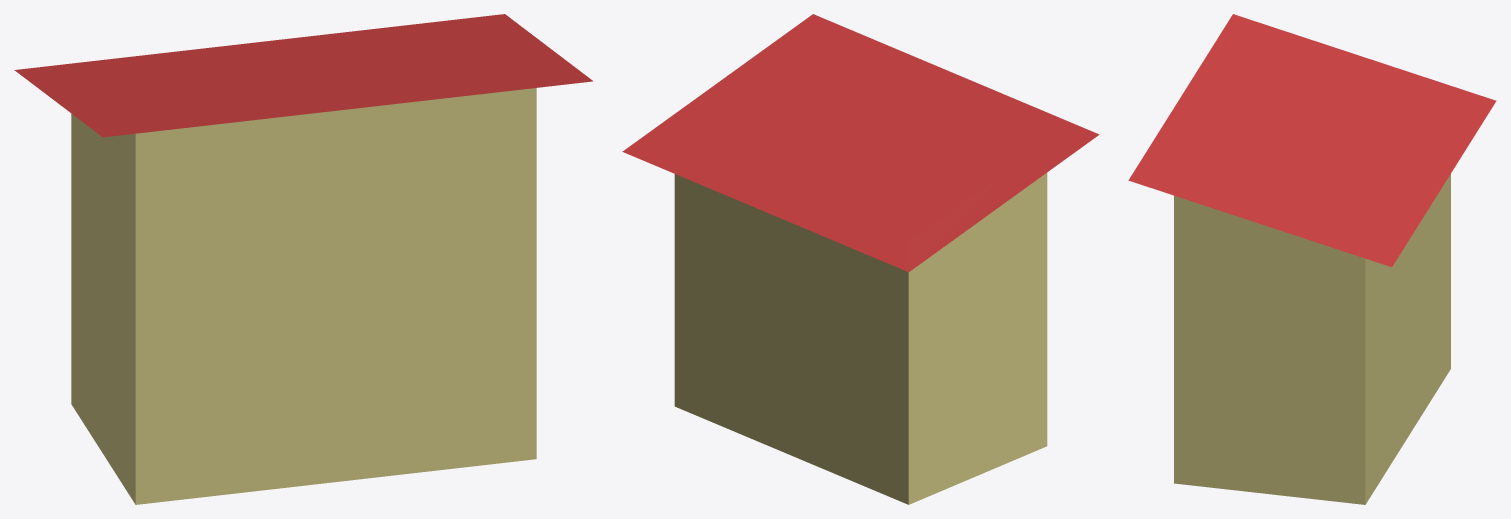
The picture shows the model from 3 angles, left to right: view 1: azimuth 30°, elevation 25°; view 2: azimuth 150°, elevation 25°; view 3: azimuth 270°, elevation 25°; orthographic projection. The views are drawn at different scales.
Bounding box in the file's own units: 9.33 × 7.41 × 6.97.
